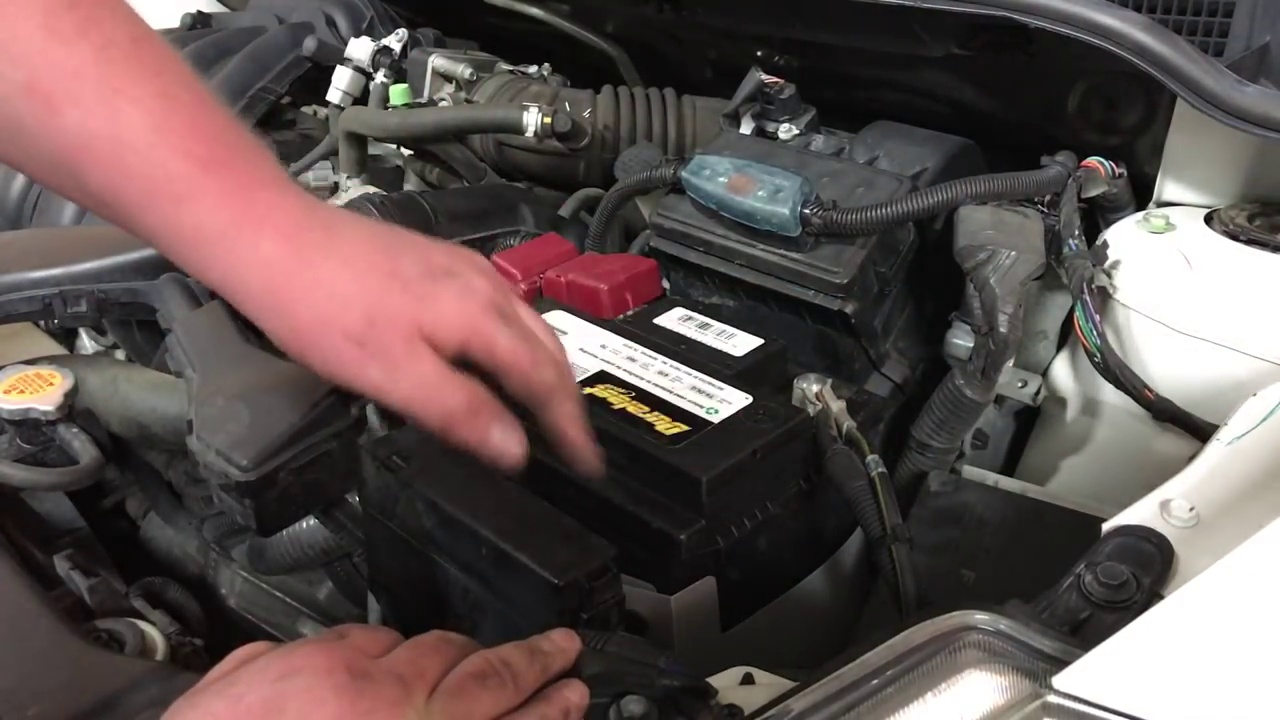battery: (437, 249, 876, 477)
neg_connected: (760, 353, 875, 468)
pos_connected: (476, 222, 666, 314)
pos_touched: (449, 222, 660, 398)
